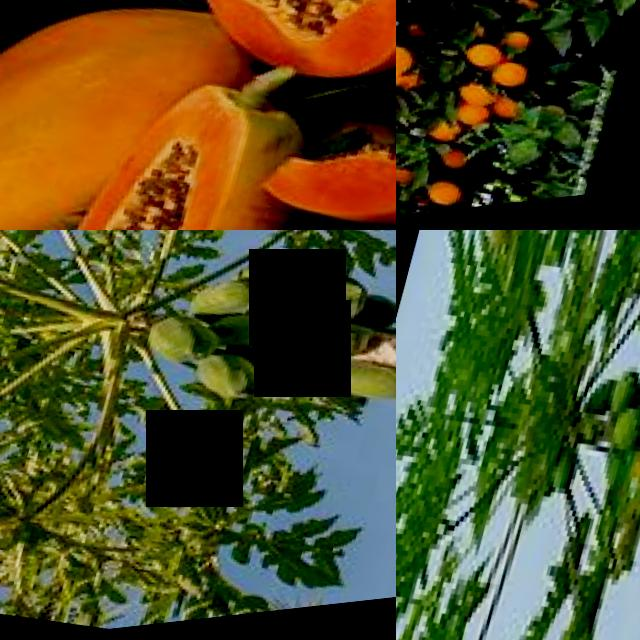orange: (460, 46, 506, 85), (489, 68, 536, 104), (396, 47, 414, 85)
pawpaw: (15, 85, 309, 230), (0, 0, 123, 230), (157, 0, 396, 100), (265, 265, 373, 355), (264, 320, 366, 391), (310, 362, 396, 427), (141, 311, 217, 379), (188, 277, 270, 337), (192, 355, 265, 415), (605, 404, 640, 464)
